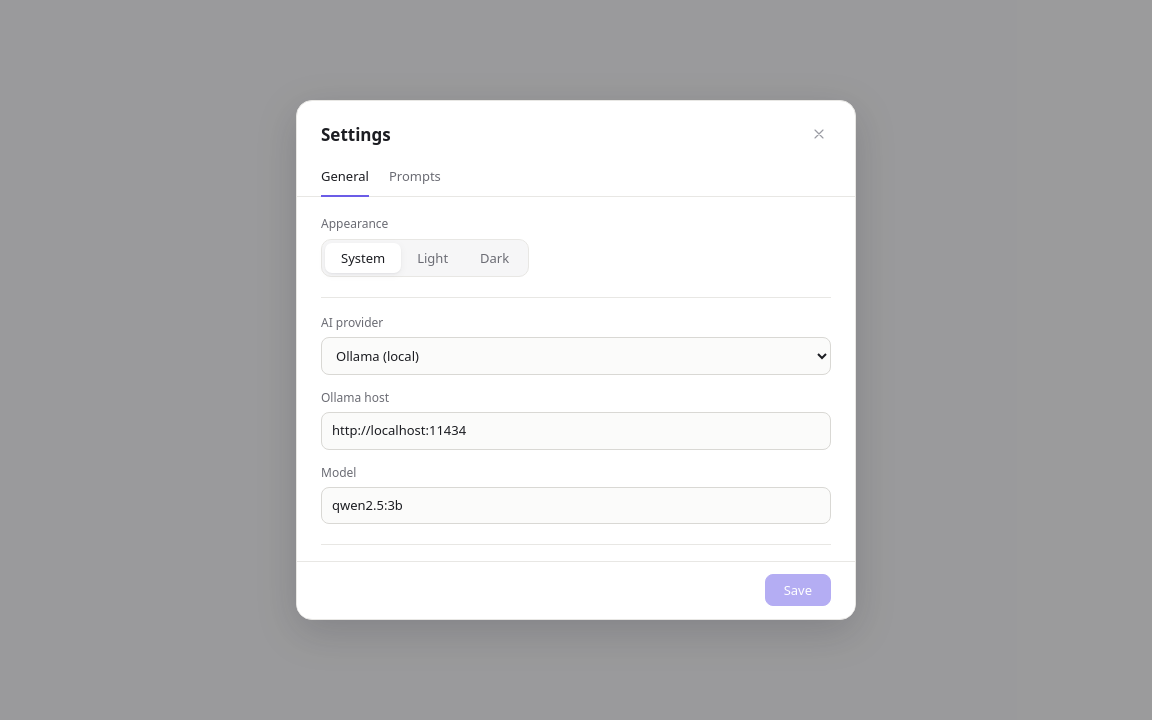
SettingsDialog › lists one prompt per action on the Prompts tab
Expected: the field showing "qwen2.5:3b" is shown, [321,486,831,524]
Click the tab "Prompts". click: (415, 178)
box: [389,159,441,197]
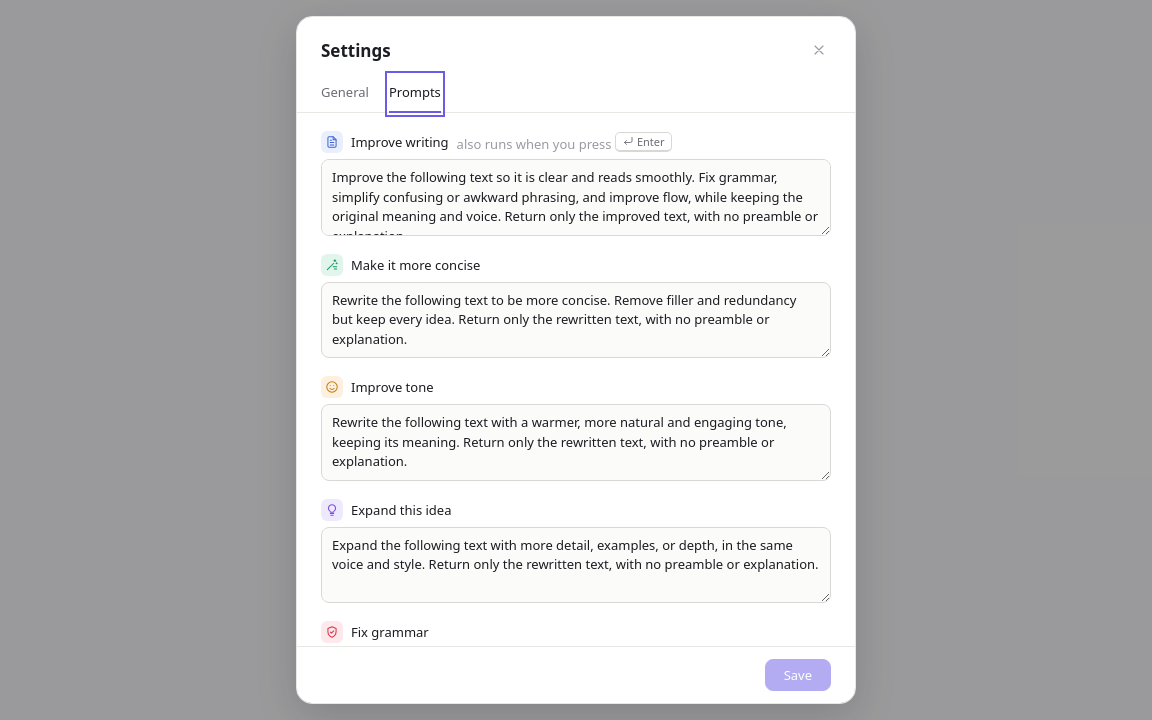
Result: the text box labelled "Improve writing" is shown at [321,159,831,236]
Result: the text box labelled "Make it more concise" is shown at [321,282,831,358]
Result: the text box labelled "Improve tone" is shown at [321,404,831,480]
